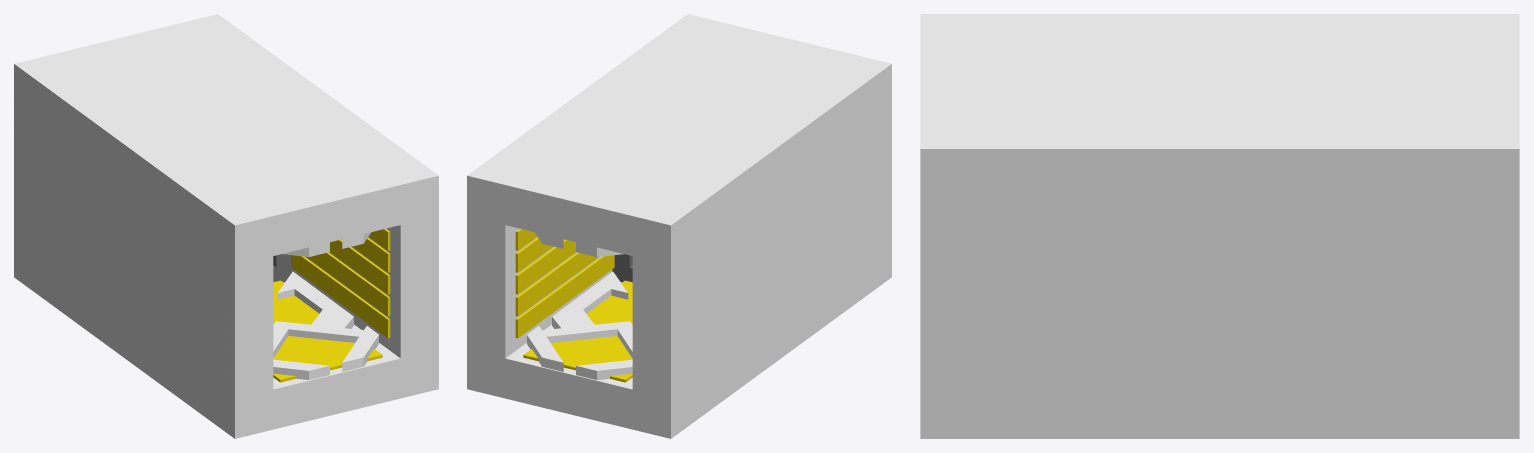
File: EB_corridor.glb
3 views of the same model, side by side, from view 1: azimuth 30°, elevation 25°; view 2: azimuth 150°, elevation 25°; view 3: azimuth 270°, elevation 25° (orthographic). The views are drawn at different scales.
Parts seen in each view (by area): view 1: outside-bridge, arrows01, wall02, Cube.5_0, Cube.5_1, Cube.5_2, arrows03, Cube.5_3, door_main; view 2: outside-bridge, arrows02, wall02, Cube.5_0, Cube.5_1, Cube.5_2, arrows04, Cube.5_3, door_main; view 3: outside-bridge.
Boxes of the visible parts, x1,y1,x2,y2 form: outside-bridge: (14,14,438,438); arrows01: (273,271,378,379); wall02: (273,280,382,382); Cube.5_0: (291,255,390,338); Cube.5_1: (307,252,390,316); Cube.5_2: (330,239,390,294); arrows03: (282,232,370,256); Cube.5_3: (352,237,390,272); door_main: (273,254,293,282); outside-bridge: (467,14,891,438); arrows02: (527,271,632,379); wall02: (523,280,632,382); Cube.5_0: (515,255,614,338); Cube.5_1: (515,252,598,316); Cube.5_2: (515,239,575,294); arrows04: (534,232,623,256); Cube.5_3: (515,237,552,272); door_main: (612,254,632,282); outside-bridge: (920,14,1519,438).
Bounding box in the file's own units: 0.4 × 0.4 × 0.75.
